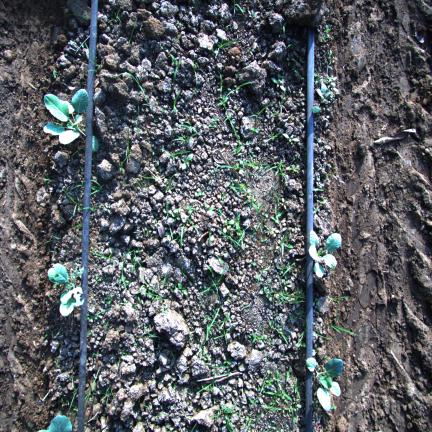crop: (44, 89, 89, 144), (48, 263, 83, 316), (308, 230, 342, 278), (316, 358, 343, 411), (38, 415, 72, 432), (306, 357, 317, 372)
